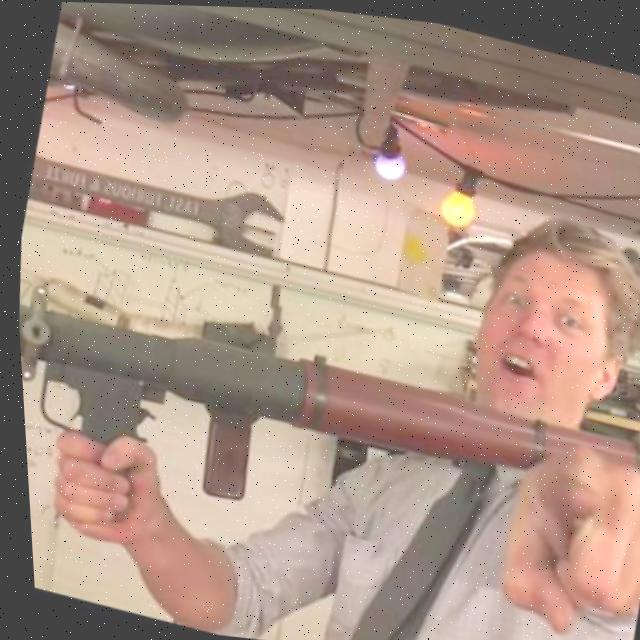rocket: (13, 277, 575, 573)
